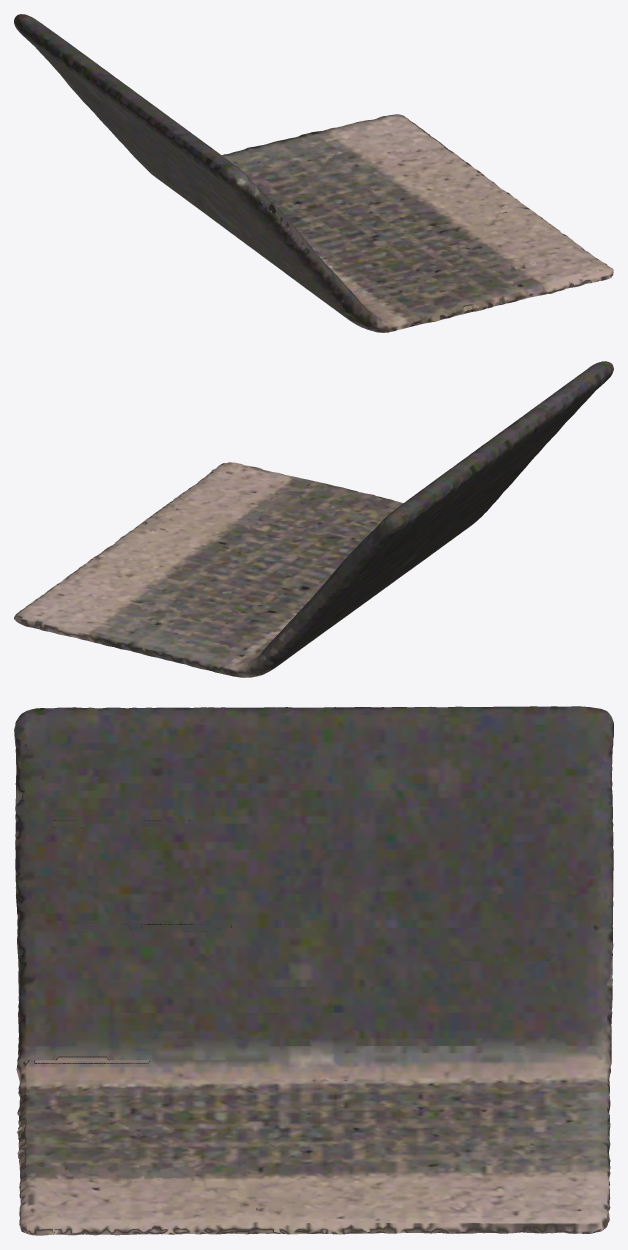
Rendered from mesh_net01_pcd.glb.
3 views of the same model, one above another, from view 1: azimuth 30°, elevation 25°; view 2: azimuth 150°, elevation 25°; view 3: azimuth 270°, elevation 25° (orthographic). The views are drawn at different scales.
Bounding box in the file's own units: 0.6771 × 0.3348 × 0.6575.
